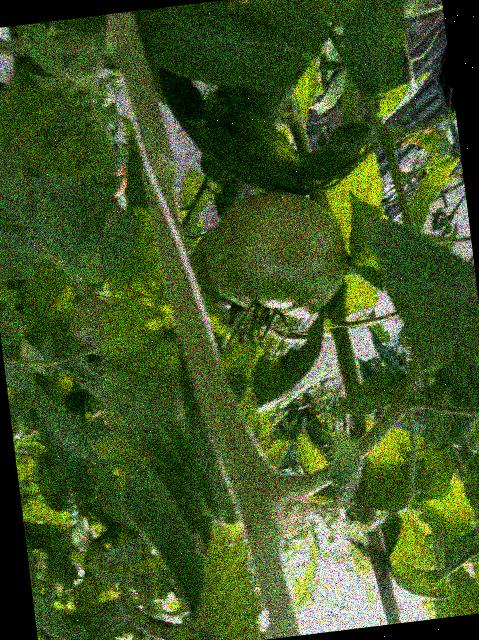b_green: (199, 183, 352, 329), (184, 227, 238, 315)
